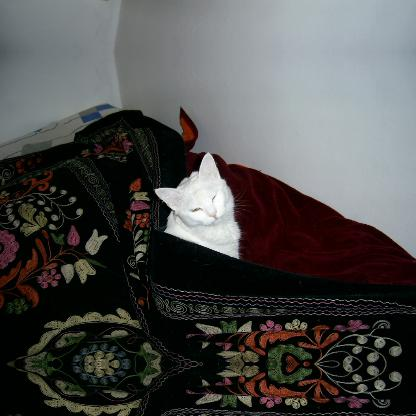Cat: (152, 152, 252, 258)
